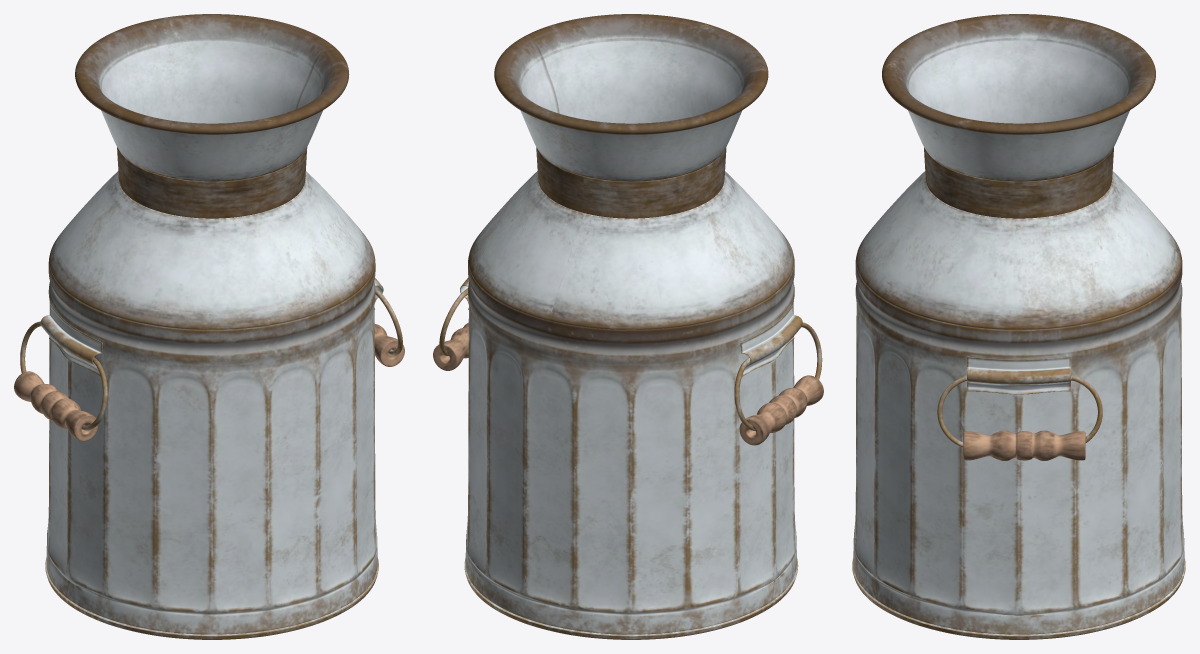
3 views of the same model, side by side, from view 1: azimuth 30°, elevation 25°; view 2: azimuth 150°, elevation 25°; view 3: azimuth 270°, elevation 25° (orthographic).
Parts seen in each view (by area): view 1: RootNode; view 2: RootNode; view 3: RootNode.
Part boxes in pixels (left/top/right/bottom): RootNode: left=14, top=14, right=404, bottom=639; RootNode: left=433, top=14, right=823, bottom=639; RootNode: left=852, top=14, right=1185, bottom=639.
Size of the model in its own units: 0.2476 by 0.3579 by 0.2152.
Materials: 1 (1 with a texture image).
